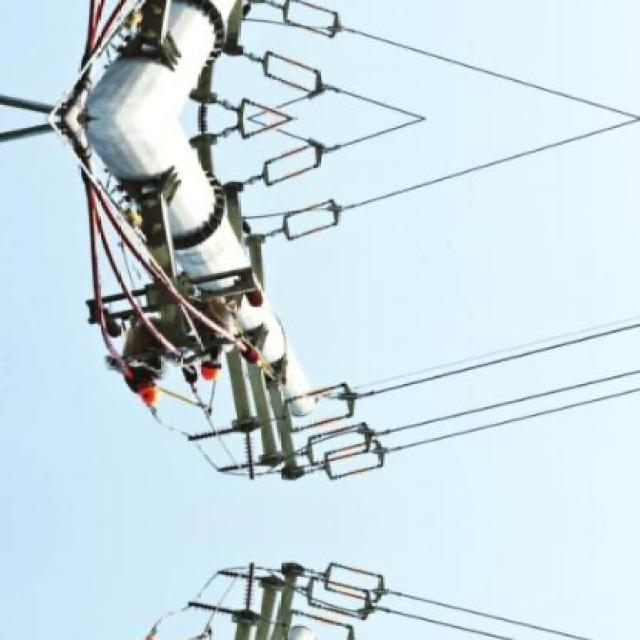con casco: (120, 371, 209, 418)
